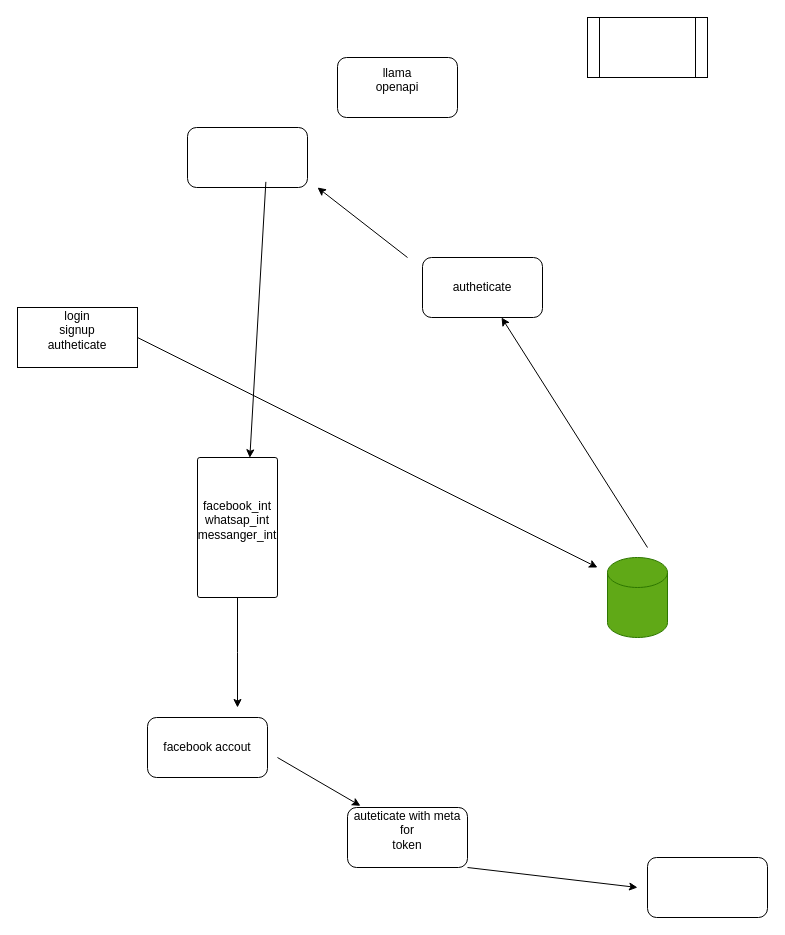
The diagram is 785 pixels wide and 935 high, and some of its shapes have lost their labels. Here are the shapes that lost their labels. From the top down, the centre of each, then its label:
(247,157): account add
(637,597): server
(707,887): account has access comments: reading, writing
